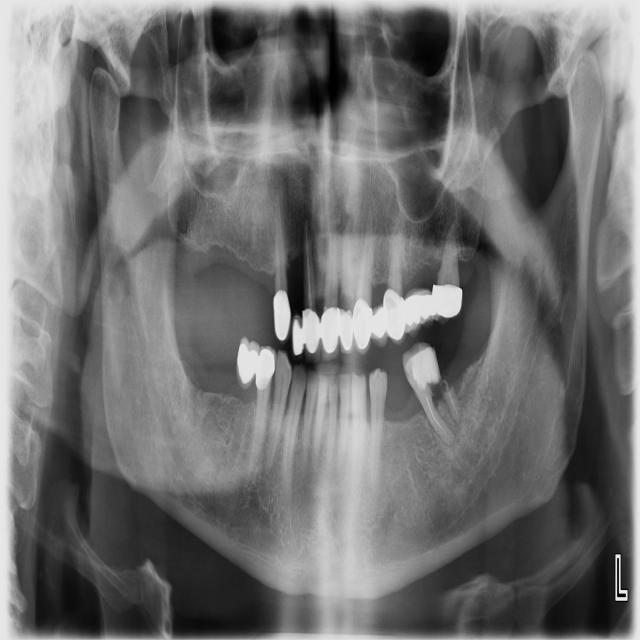mandibula: (86, 42, 605, 598)
